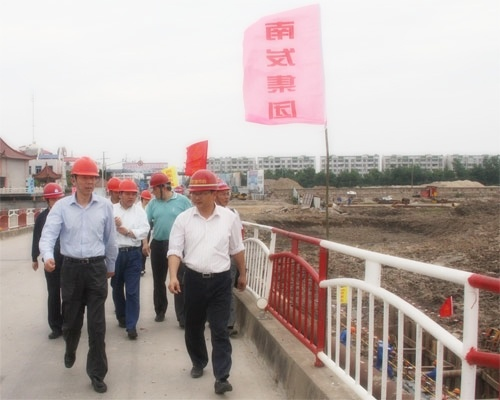red: (186, 169, 218, 208), (70, 155, 100, 196), (149, 171, 170, 198), (42, 182, 65, 205), (118, 178, 138, 204), (214, 179, 231, 207), (105, 176, 120, 199), (138, 189, 152, 204)
